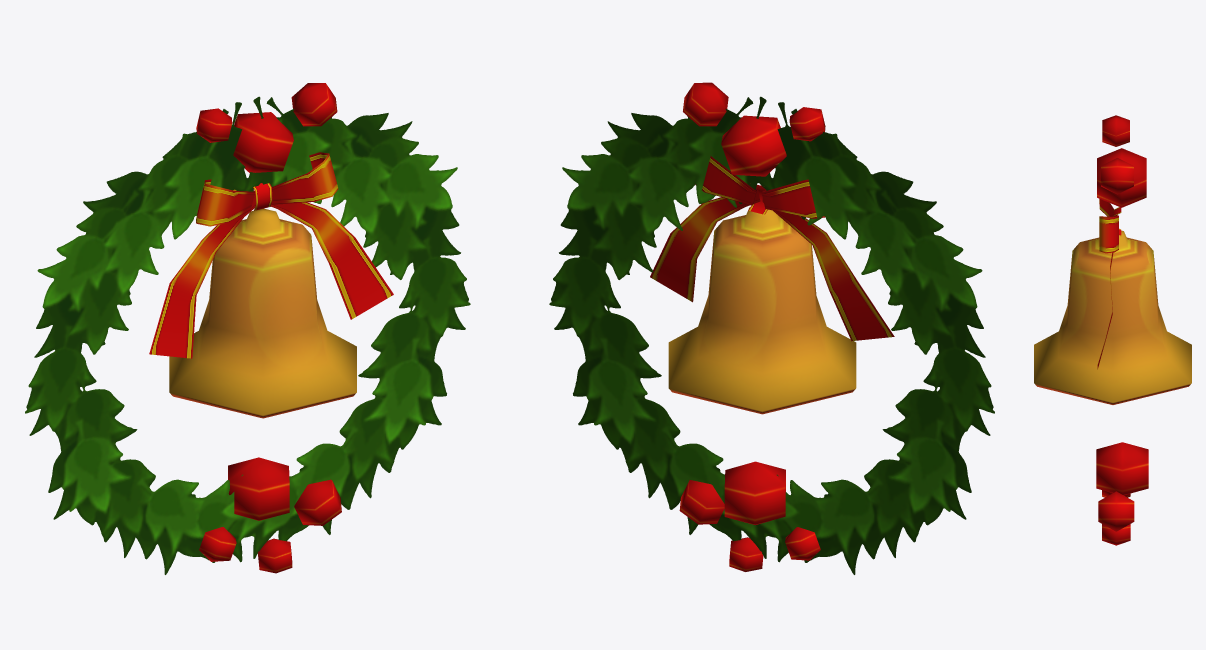
File: Bell_01.FBX
3 renders of one model, left to right at view 1: azimuth 30°, elevation 25°; view 2: azimuth 150°, elevation 25°; view 3: azimuth 270°, elevation 25°, orthographic. The views are drawn at different scales.
Parts seen in each view (by area): view 1: Line004; view 2: Line004; view 3: Line004.
Part boxes in pixels (bbox=[...]): Line004: bbox=[25, 83, 470, 574]; Line004: bbox=[549, 82, 994, 574]; Line004: bbox=[1034, 115, 1191, 545].
Bounding box in the file's own units: 31.17 × 31.17 × 10.51.
Materials: 1 (1 with a texture image).
